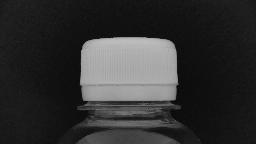Good Cap: (74, 34, 184, 114)
